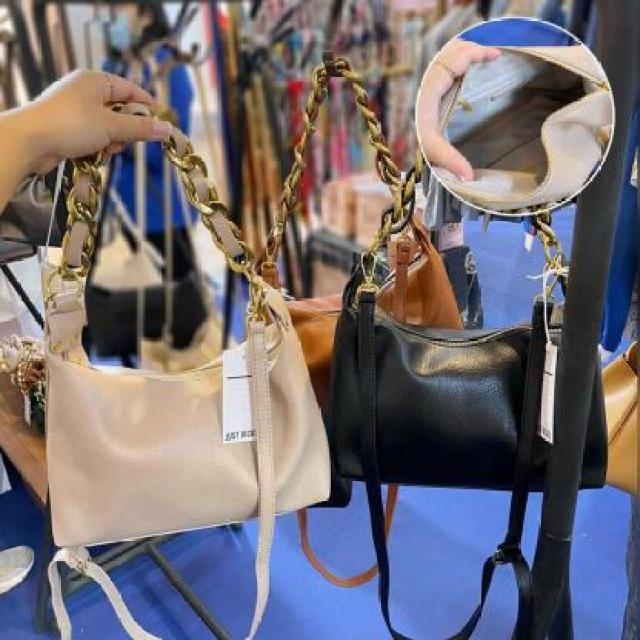Bag: (15, 68, 342, 584)
